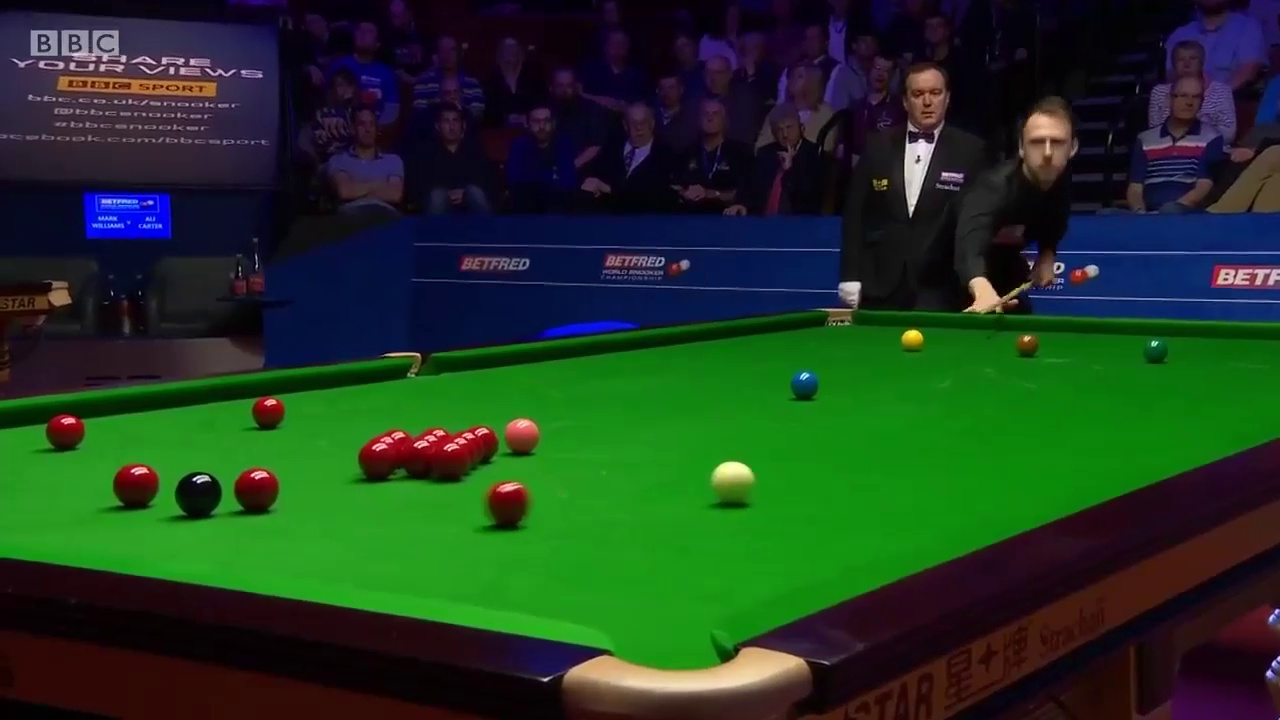baseball glove: (706, 461, 754, 506), (897, 331, 921, 349)
black: (178, 473, 221, 514)
blue: (792, 367, 819, 396)
brown: (1014, 332, 1039, 352)
green: (1146, 338, 1166, 359)
pink: (503, 416, 539, 452)
red: (233, 466, 278, 514), (111, 467, 158, 507), (488, 485, 530, 522), (358, 442, 394, 478), (47, 415, 83, 451), (432, 445, 464, 478), (253, 396, 283, 426)
